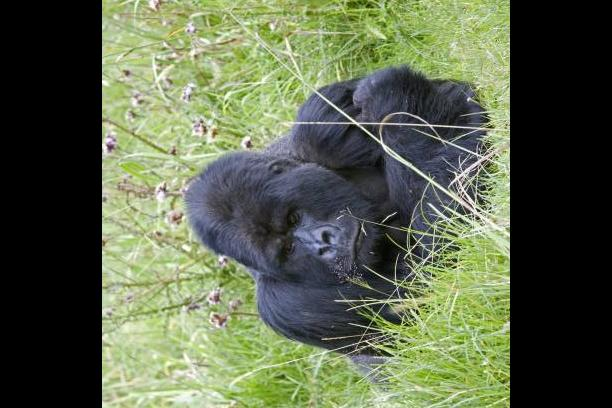goriile_montagne: (192, 84, 460, 336)
